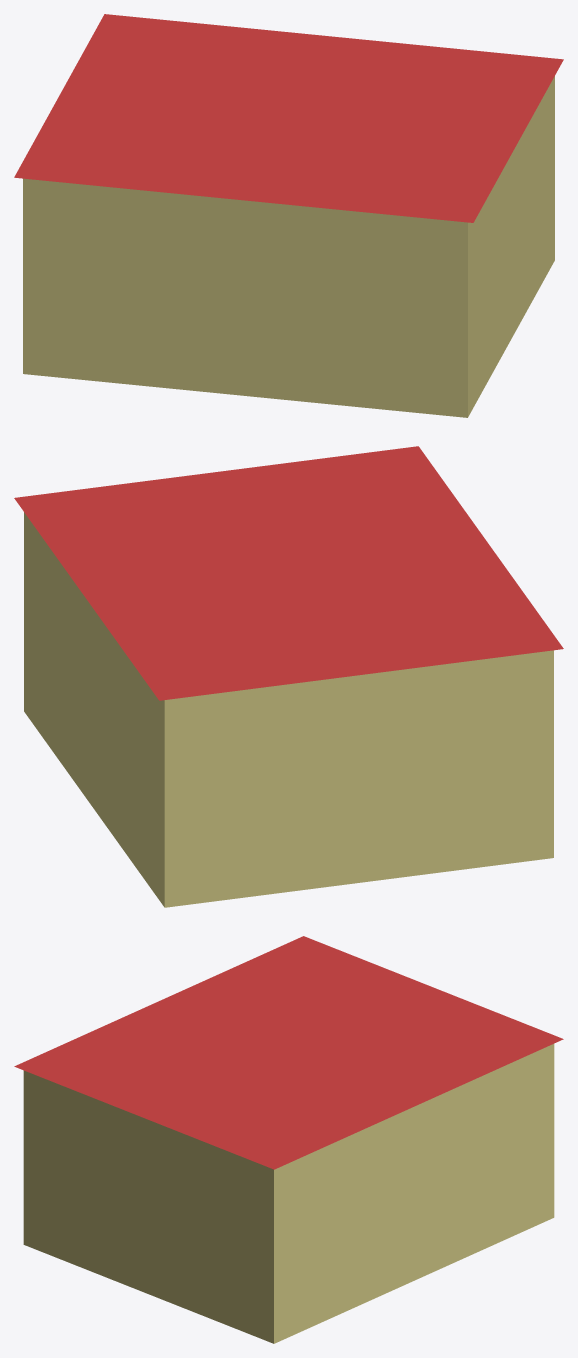
3 views of the same model, one above another, from view 1: azimuth 30°, elevation 25°; view 2: azimuth 150°, elevation 25°; view 3: azimuth 270°, elevation 25° (orthographic). The views are drawn at different scales.
Visible parts, largest first — view 1: group_5, group_3, group_4; view 2: group_5, group_3, group_4; view 3: group_5, group_3, group_4.
Boxes of the visible parts, x1=… form: group_5: x1=23, y1=76, x2=554, y2=417; group_3: x1=14, y1=14, x2=563, y2=222; group_4: x1=15, y1=14, x2=563, y2=222; group_5: x1=24, y1=512, x2=553, y2=907; group_3: x1=14, y1=446, x2=563, y2=700; group_4: x1=15, y1=447, x2=563, y2=700; group_5: x1=23, y1=1044, x2=554, y2=1343; group_3: x1=14, y1=936, x2=563, y2=1169; group_4: x1=14, y1=936, x2=555, y2=1169.
Size of the model in its own units: 61.11 by 60.78 by 21.74.
